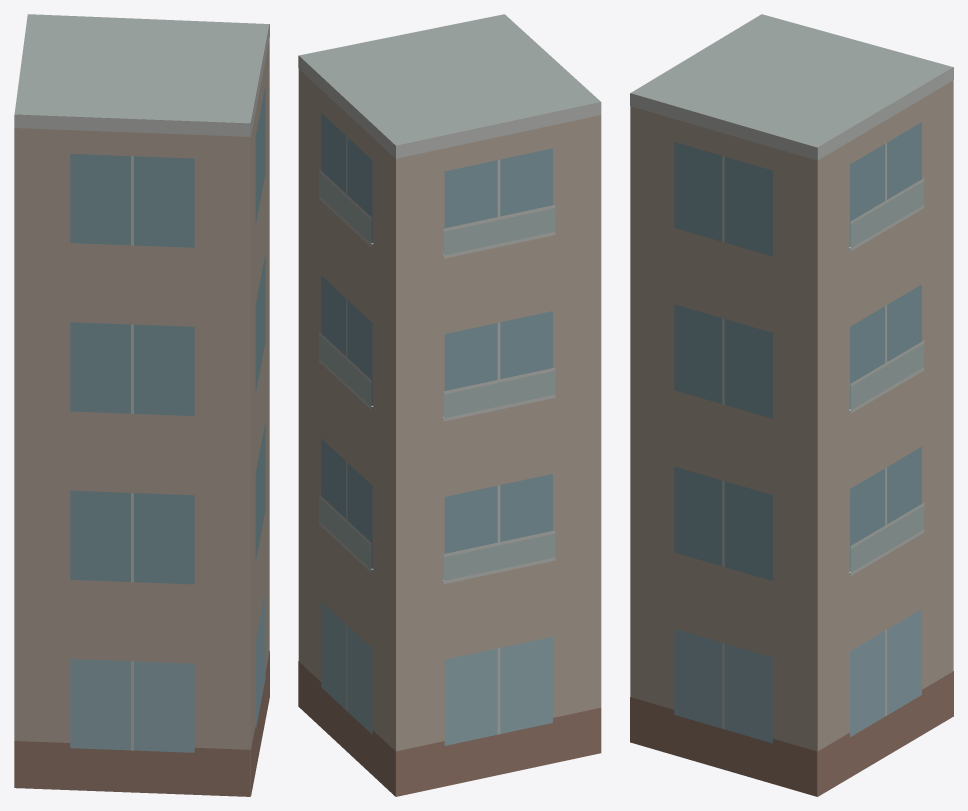
Rendered from survey-upis-32634937.glb.
3 views of the same model, side by side, from view 1: azimuth 30°, elevation 25°; view 2: azimuth 150°, elevation 25°; view 3: azimuth 270°, elevation 25° (orthographic). The views are drawn at different scales.
Visible parts, largest first — view 1: survey-upis-32634937.tmp; view 2: survey-upis-32634937.tmp; view 3: survey-upis-32634937.tmp.
Boxes of the visible parts, box(x1,y1,x2,y2) form: survey-upis-32634937.tmp: box(14, 14, 269, 796); survey-upis-32634937.tmp: box(298, 14, 601, 796); survey-upis-32634937.tmp: box(630, 14, 953, 796).
Bounding box in the file's own units: 5.39 × 12.2 × 5.52.
